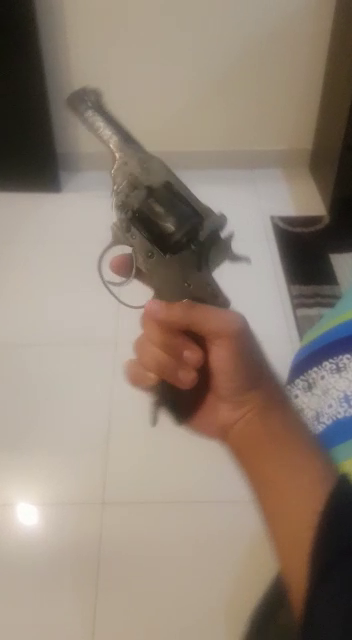handgun: (51, 62, 269, 489)
